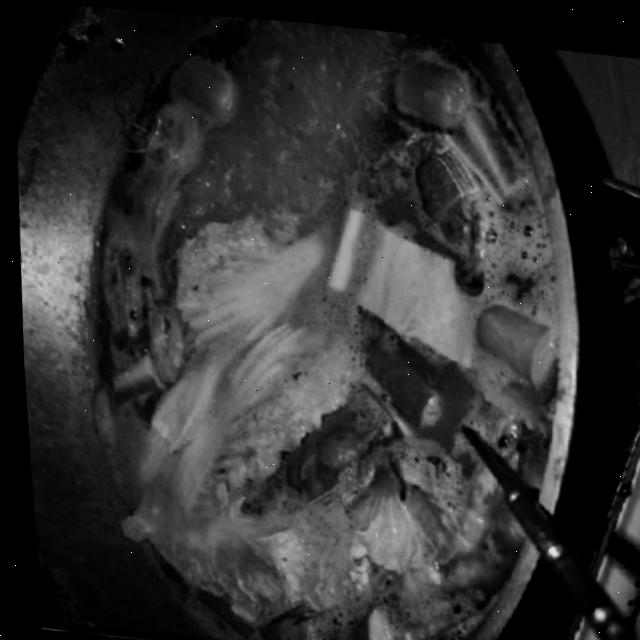汤锅炖物: (12, 1, 632, 640)
